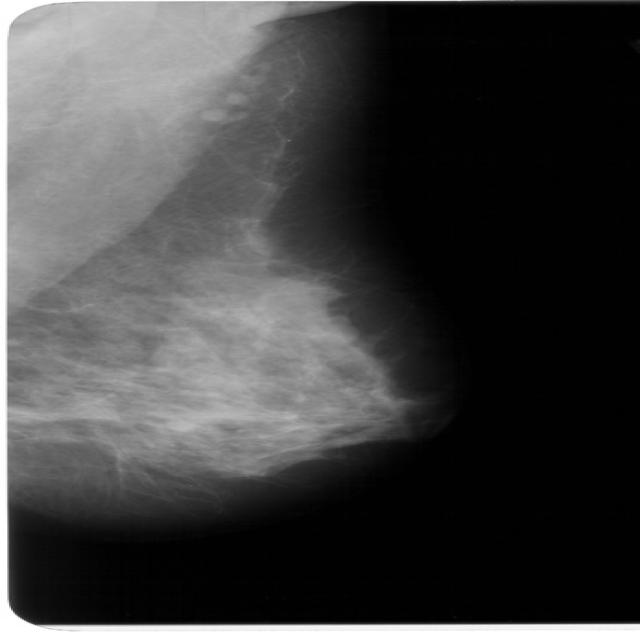tumour: (300, 319, 360, 346)
